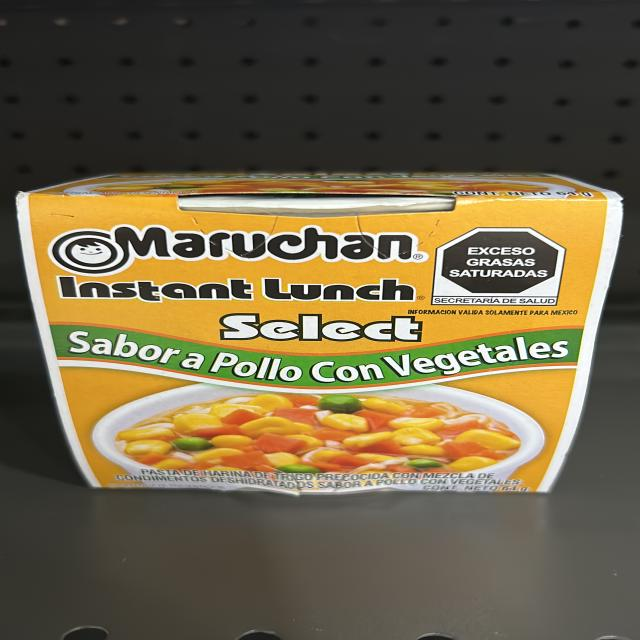maruchanPollo: (84, 191, 555, 504)
